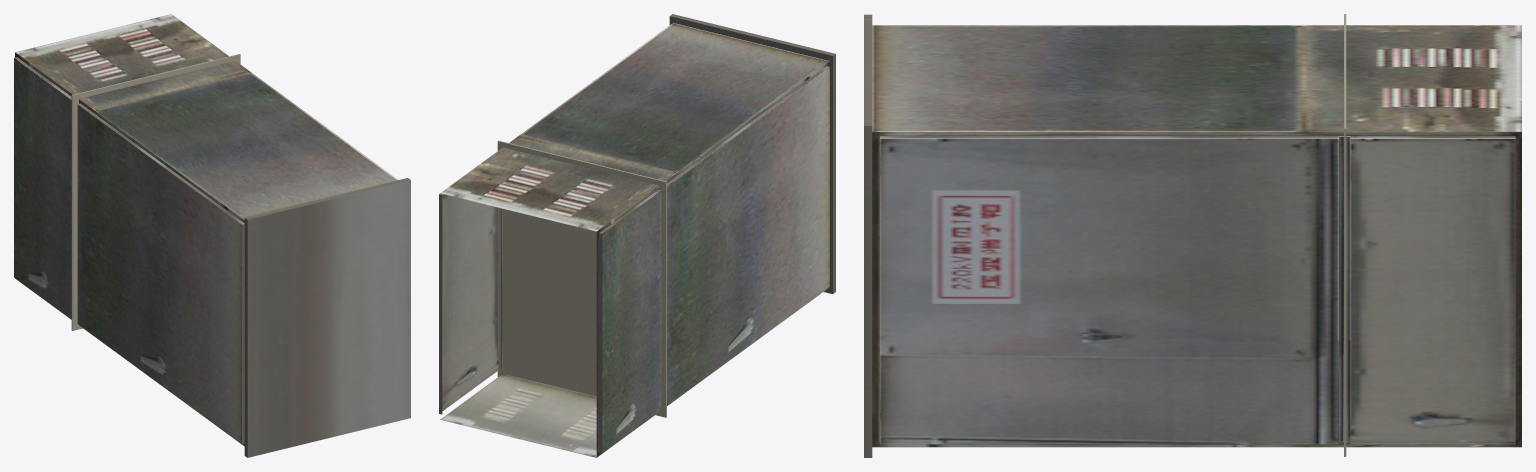
File: ftzbzsb-dzx-232-geode.glb
3 views of the same model, side by side, from view 1: azimuth 30°, elevation 25°; view 2: azimuth 150°, elevation 25°; view 3: azimuth 270°, elevation 25° (orthographic). The views are drawn at different scales.
Visible parts, largest first — view 1: Node; view 2: Node; view 3: Node.
Boxes of the visible parts, bbox=[...] form: Node: bbox=[14, 14, 410, 457]; Node: bbox=[439, 14, 835, 457]; Node: bbox=[864, 14, 1521, 457].
Bounding box in the file's own units: 0.6946 × 0.9395 × 1.69.
Materials: 5 (5 with a texture image).
